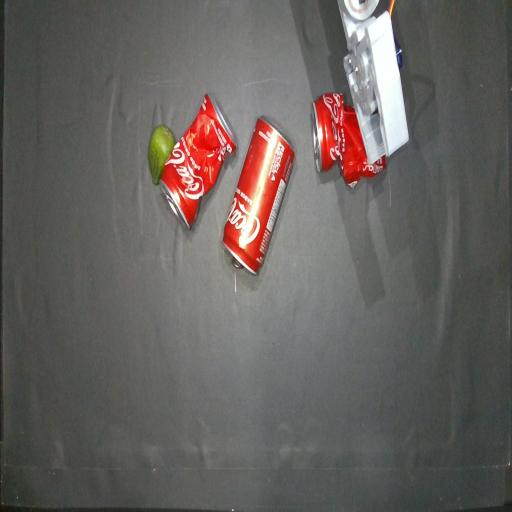higo: (148, 125, 175, 185)
lata: (223, 118, 294, 274)
lata_defectuoso: (160, 94, 236, 228), (312, 93, 385, 186)
